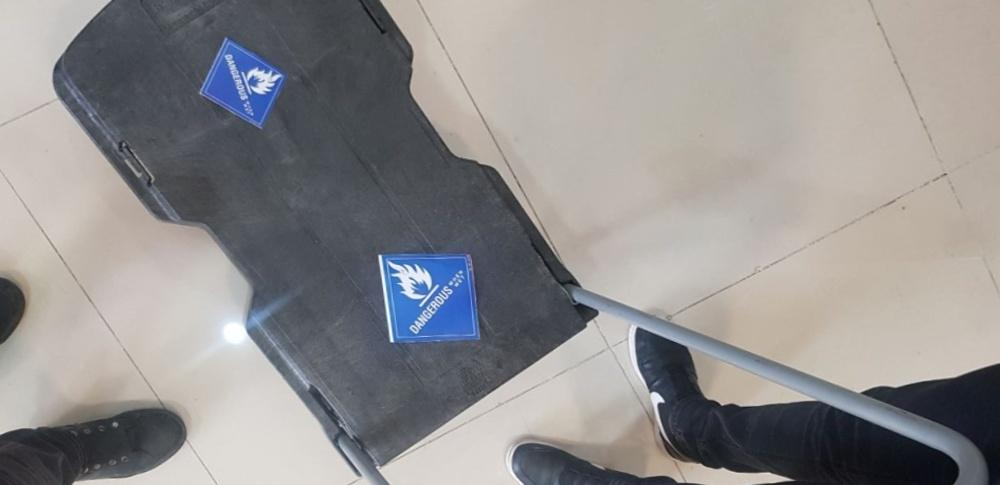dangerous-when-wet: (189, 35, 294, 135), (376, 249, 478, 343)
